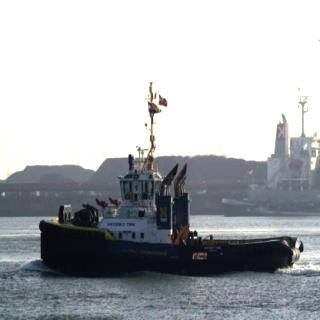Tug Boat: (36, 92, 316, 273)
